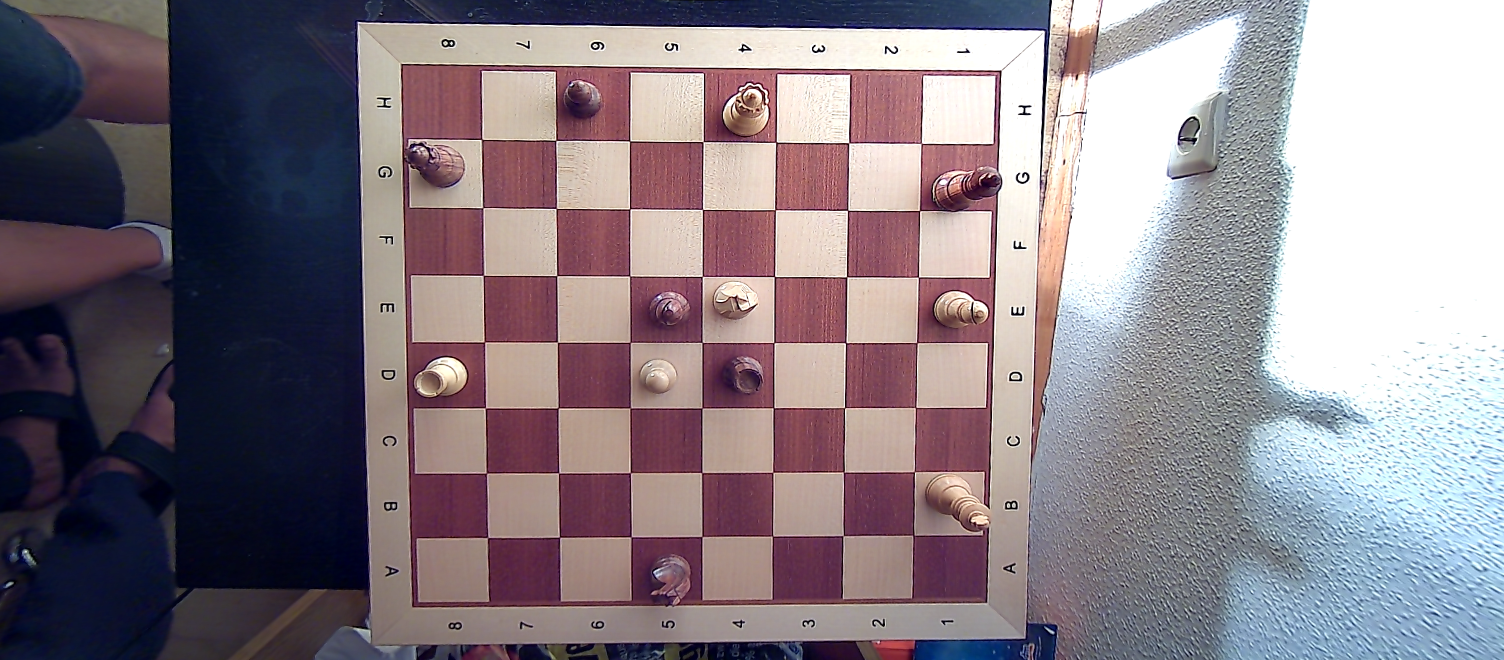black-bishop: (645, 287, 693, 335)
black-king: (927, 161, 1005, 215)
black-knight: (640, 550, 694, 610)
black-pawn: (555, 75, 604, 124)
black-queen: (400, 138, 469, 193)
black-rook: (722, 351, 766, 403)
white-bishop: (928, 287, 988, 335)
white-king: (920, 469, 994, 536)
white-knight: (710, 278, 761, 326)
white-pawn: (634, 356, 680, 398)
white-queen: (720, 81, 773, 137)
white-rook: (412, 354, 472, 399)
